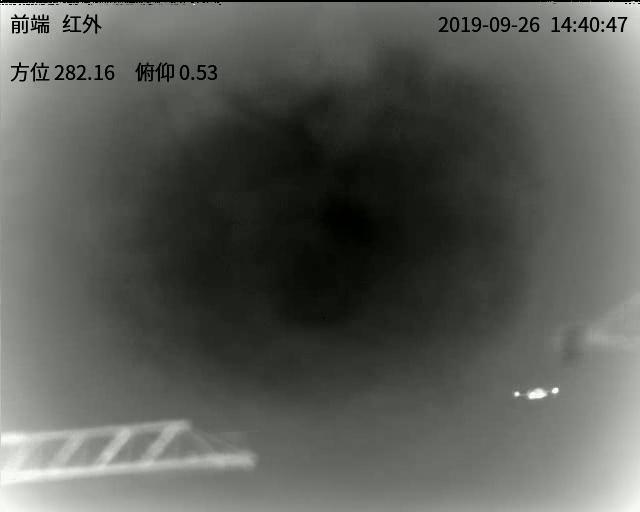DRONE: (514, 386, 561, 401)
